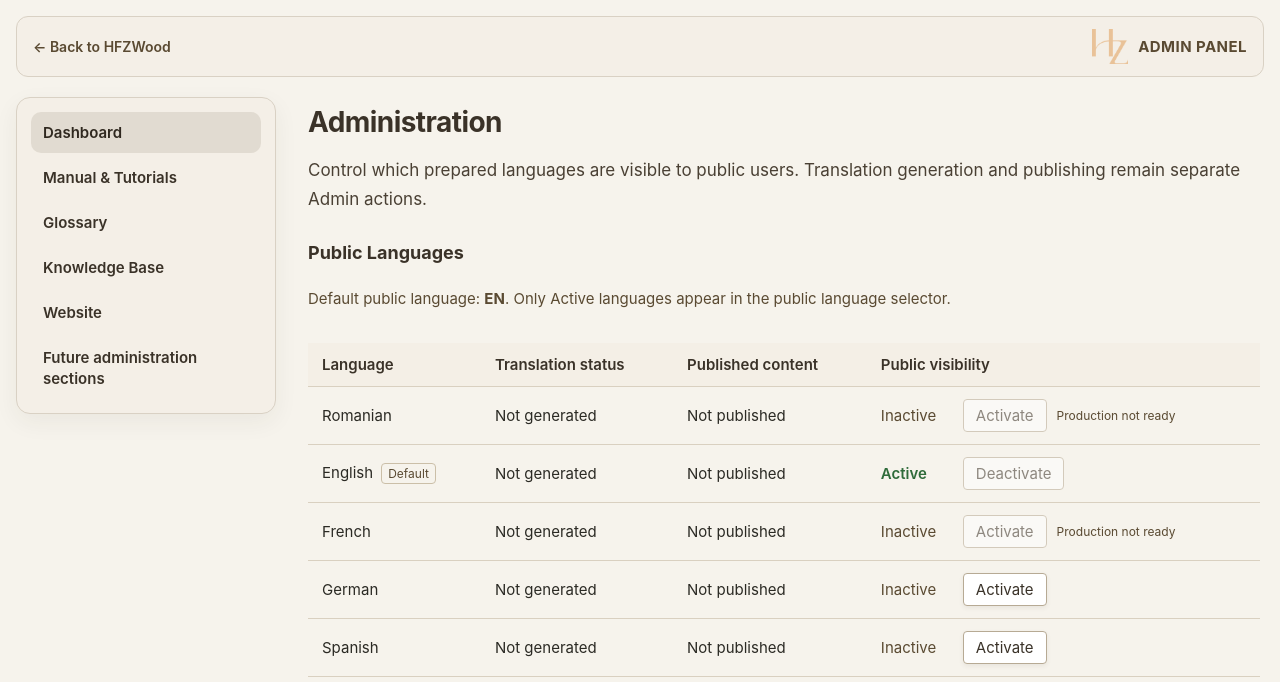
Scenario: Admin Locale Readiness overview › surfaces a backend activation error when frontend readiness is stale
The width and height of the screenshot is (1280, 682).
Click the 3rd button "Activate" at (1005, 589), box [963, 572, 1047, 606]
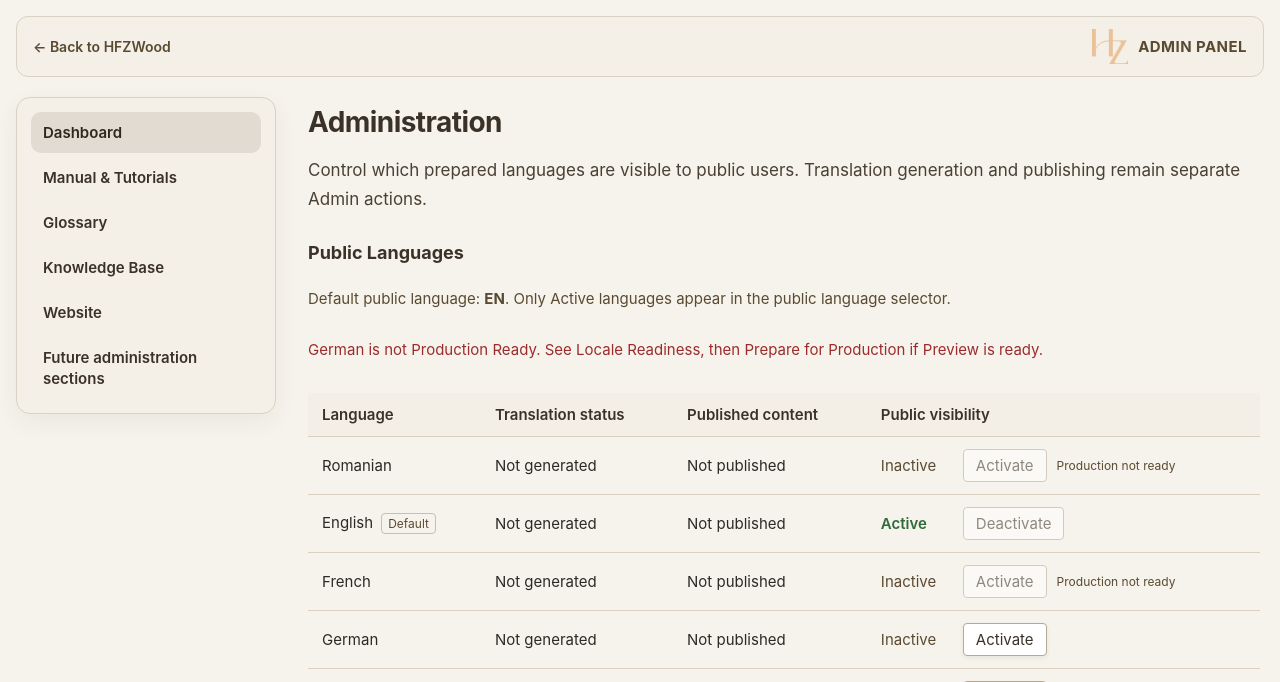
Expected: the 3rd text "Inactive" is shown, [881, 630, 936, 649]
Result: the message shows "not Production Ready" at [308, 340, 1043, 358]
